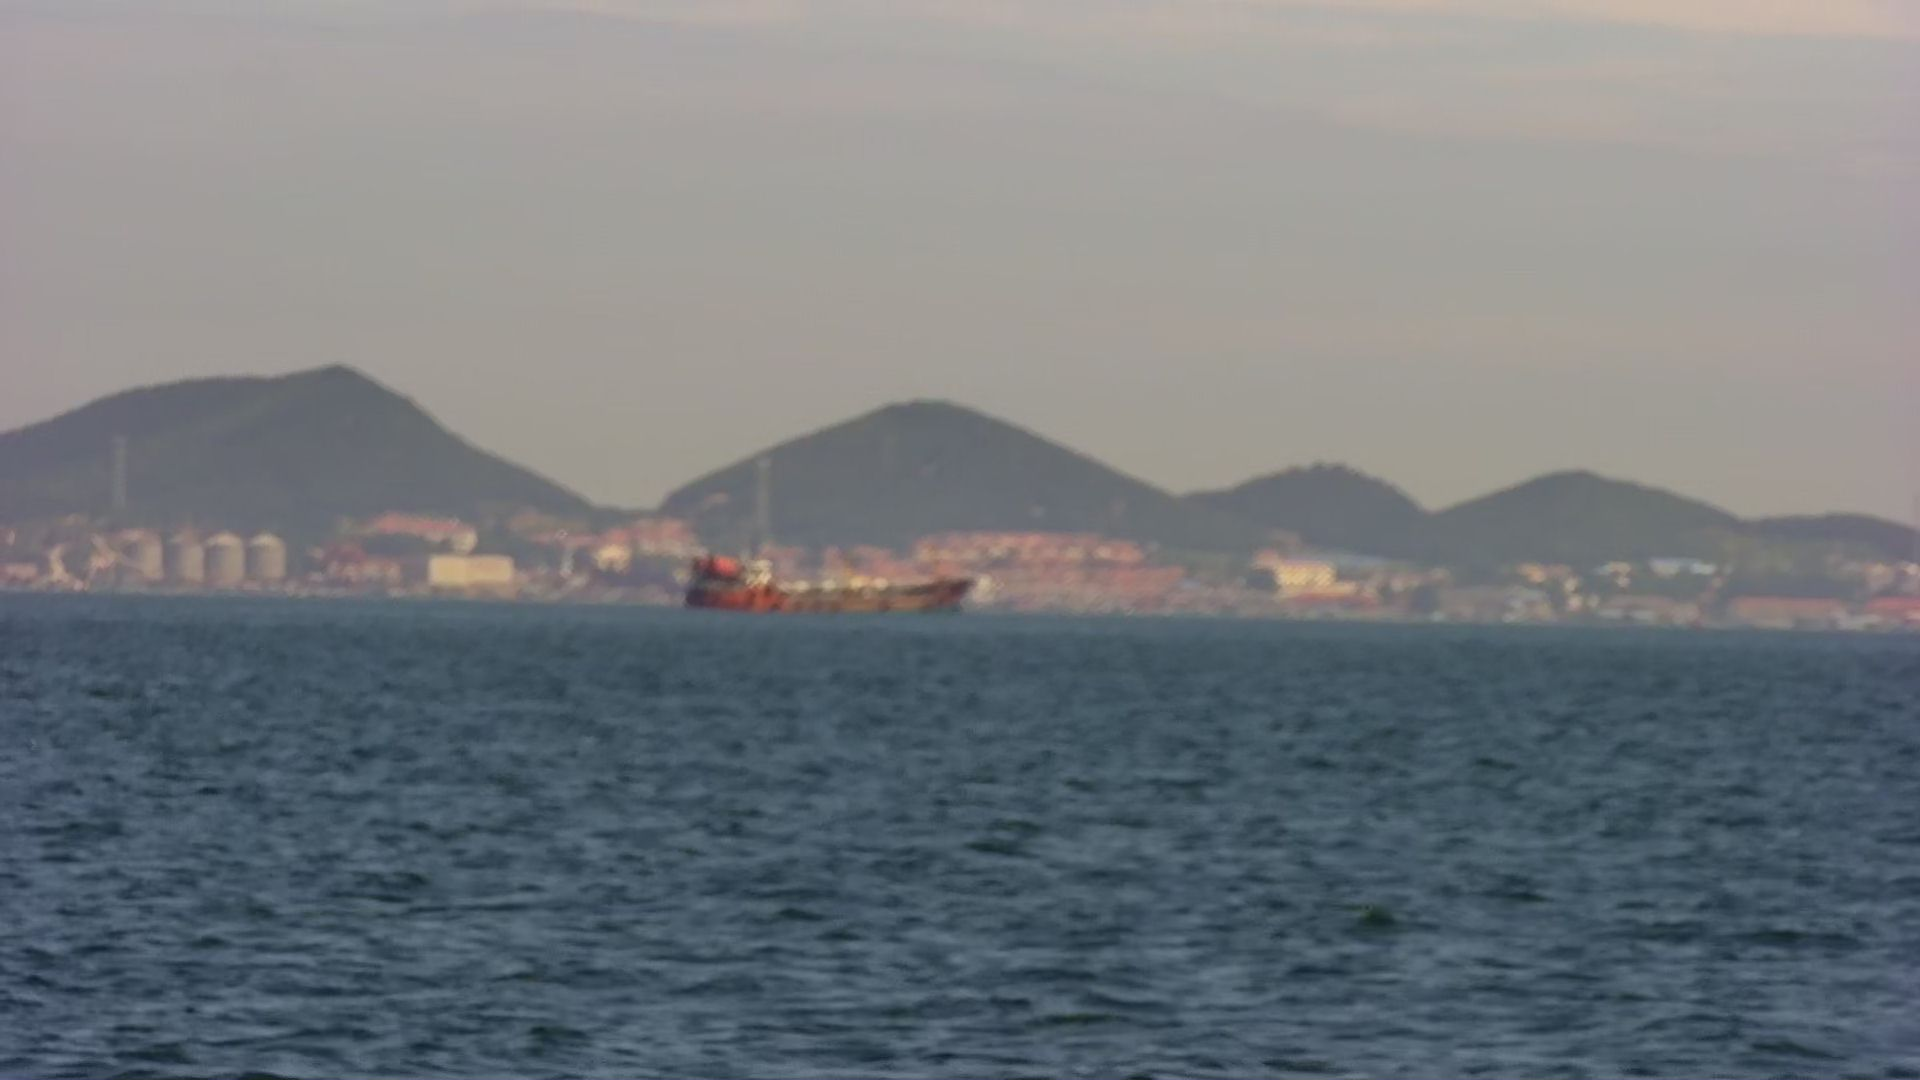boat: (683, 554, 980, 618)
